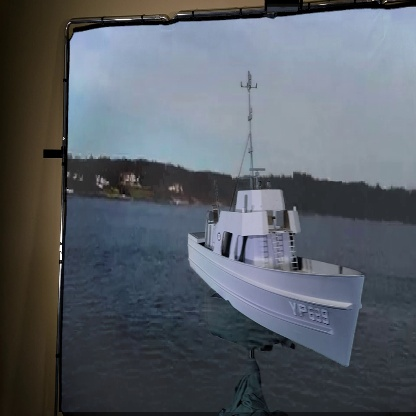YP689: (187, 71, 367, 369)
